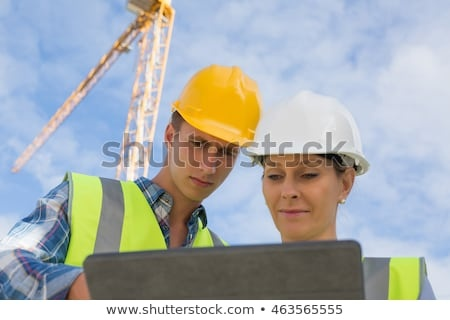white: (253, 90, 367, 238)
yellow: (162, 63, 262, 204)
